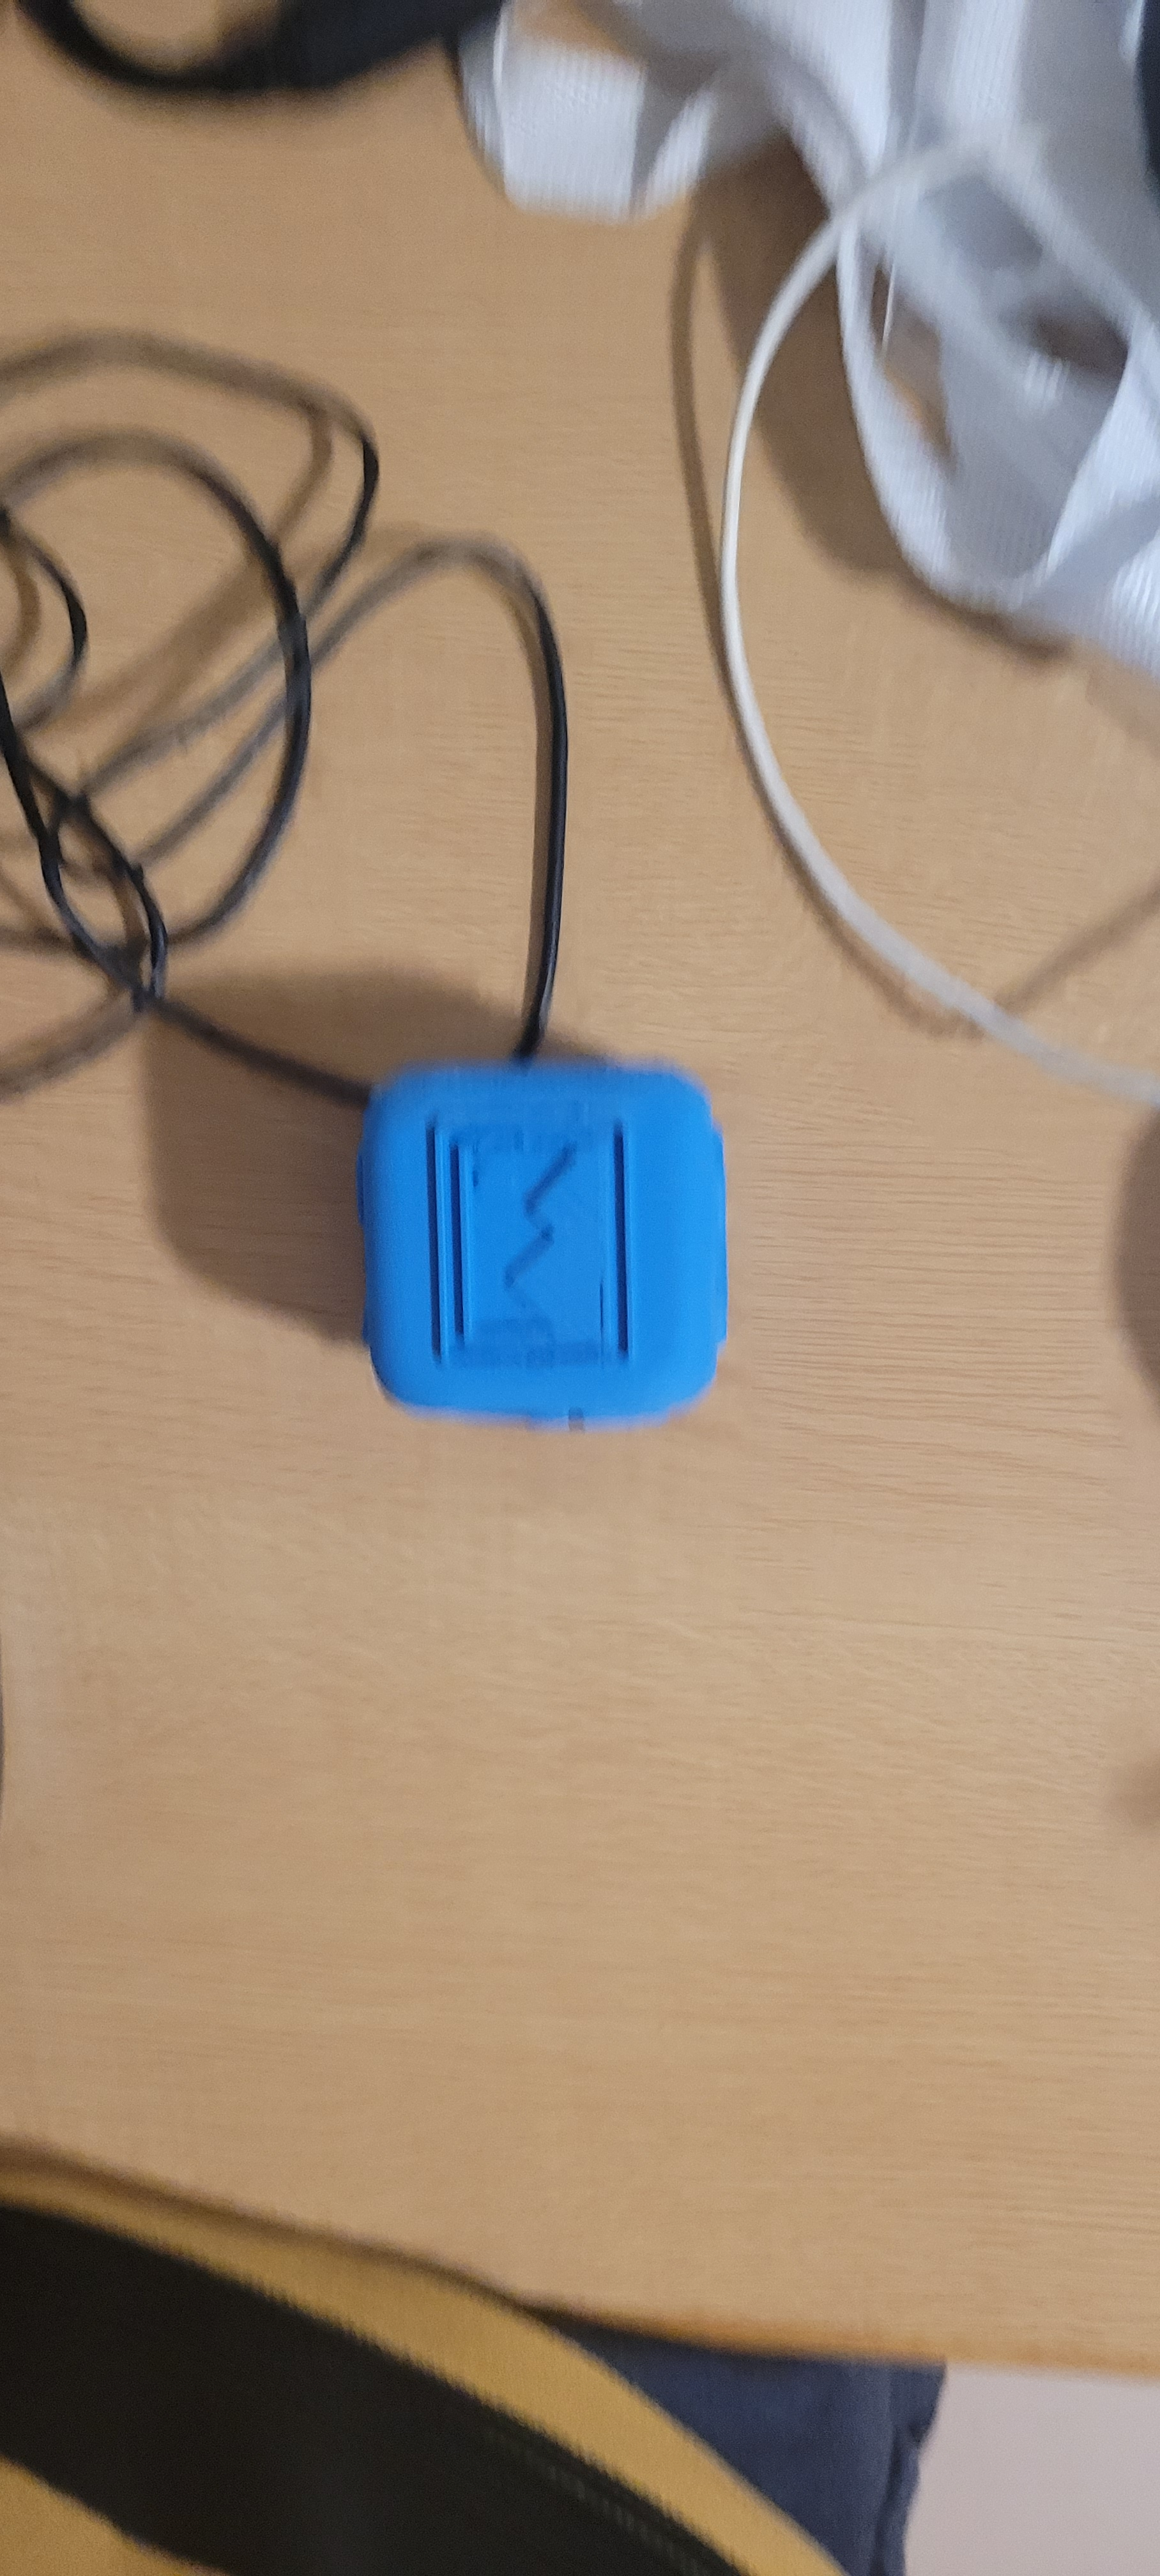Story: (411, 1092, 662, 1380)
